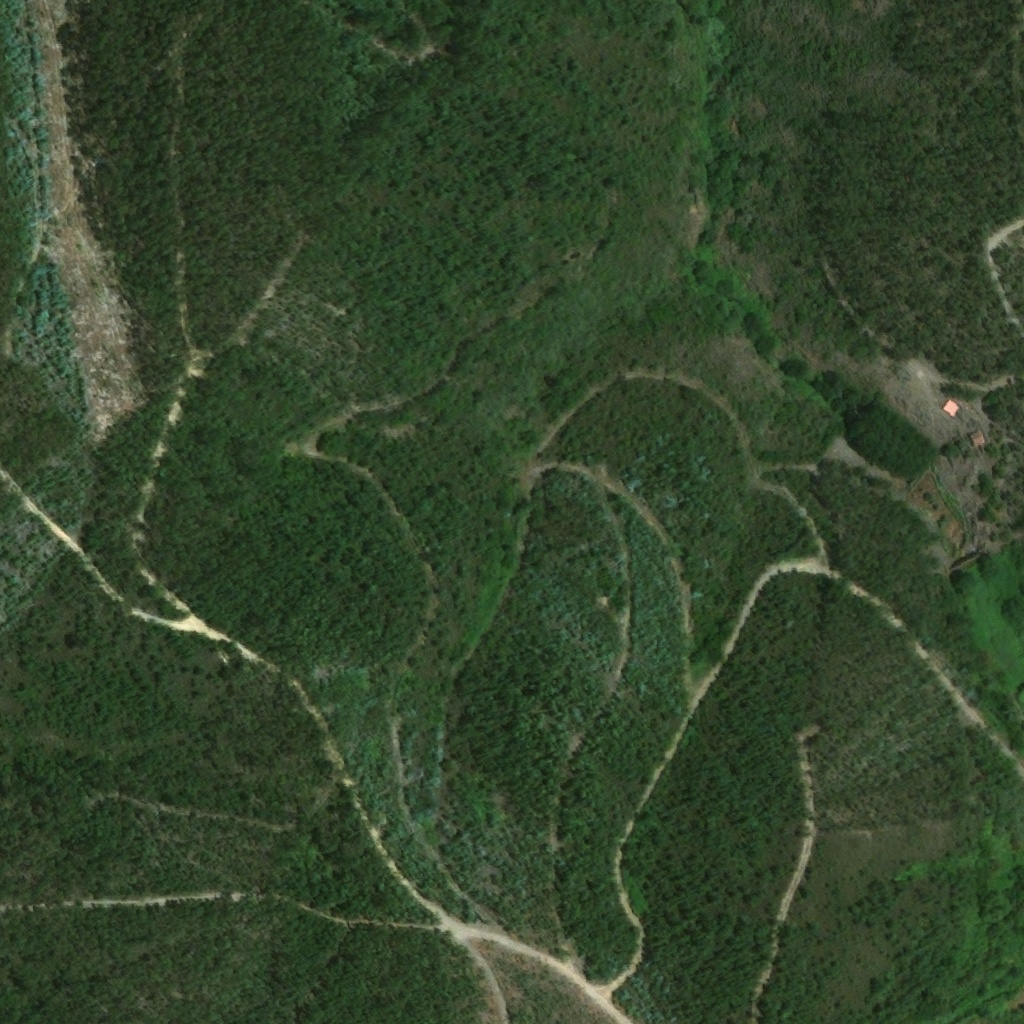0 no-damage: (942, 400, 961, 419), (969, 431, 986, 447)
